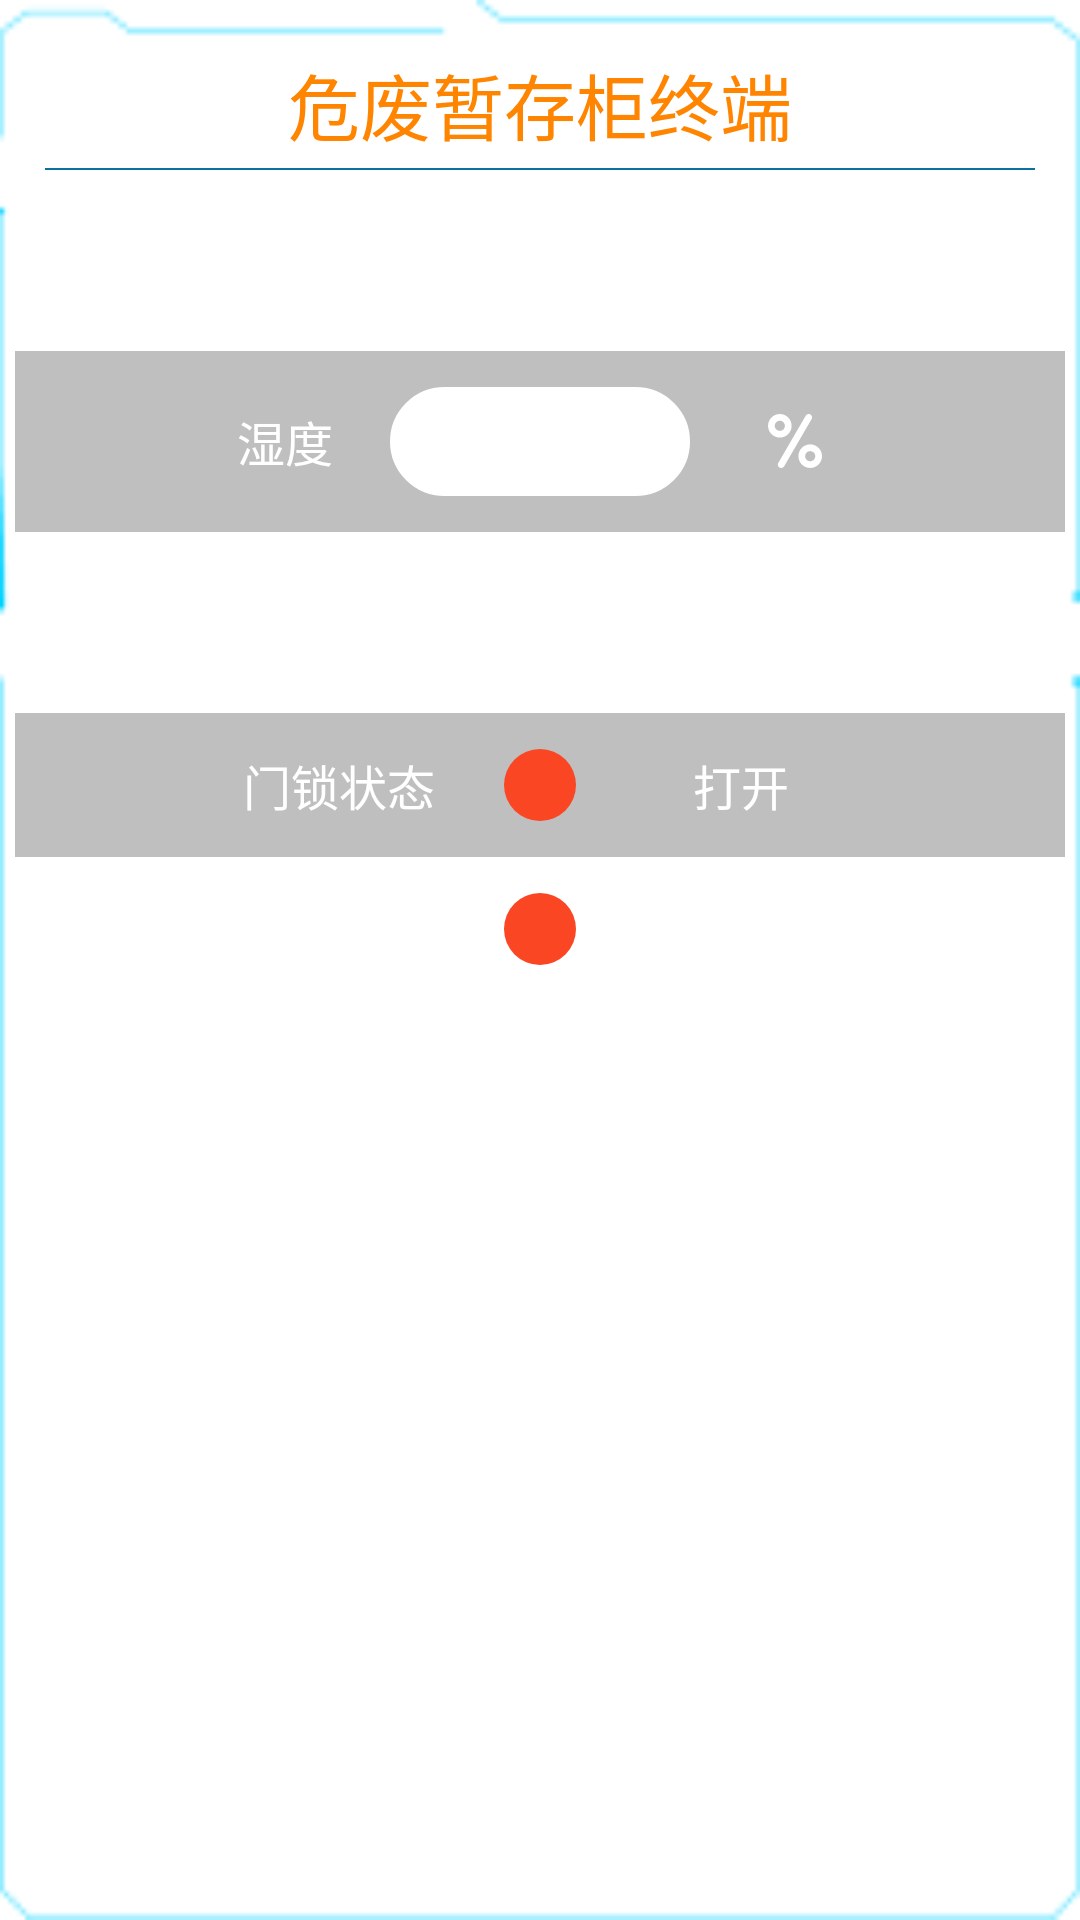

Screen size 1080px x 1920px. Icon name, then its box in pixels as (x1, y1, x2, y2):
percent sign: (768, 414, 822, 468)
